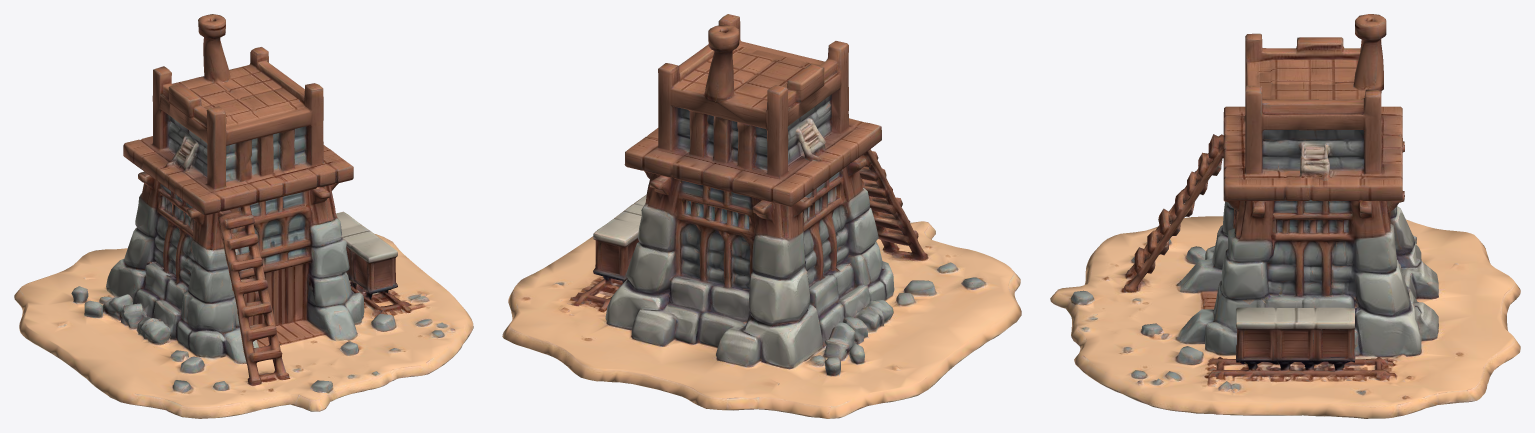
File: tertiary.glb
3 renders of one model, left to right at view 1: azimuth 30°, elevation 25°; view 2: azimuth 150°, elevation 25°; view 3: azimuth 270°, elevation 25°, orthographic. The views are drawn at different scales.
Visible parts, largest first — view 1: Mesh_0; view 2: Mesh_0; view 3: Mesh_0.
Part boxes in pixels (x1,y1,x2,y2): Mesh_0: [14, 14, 473, 418]; Mesh_0: [502, 14, 1021, 418]; Mesh_0: [1050, 14, 1520, 418].
Bounding box in the file's own units: 1.89 × 1.35 × 1.91.
1 material, 1 textured.
